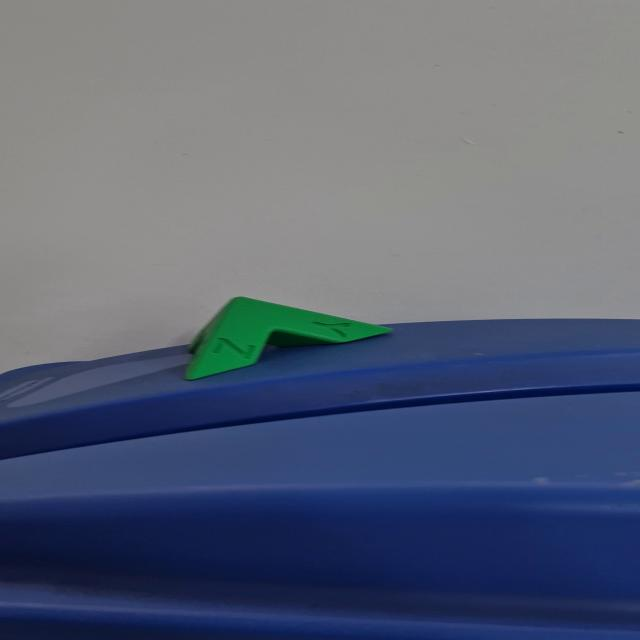objects: (180, 295, 396, 382)
